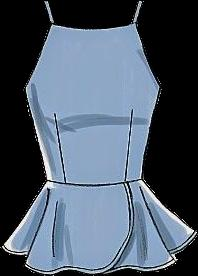Bodice: (2, 23, 196, 273)
Neckline: (47, 178, 142, 186), (50, 21, 135, 29)
Waistline: (1, 181, 197, 274)
